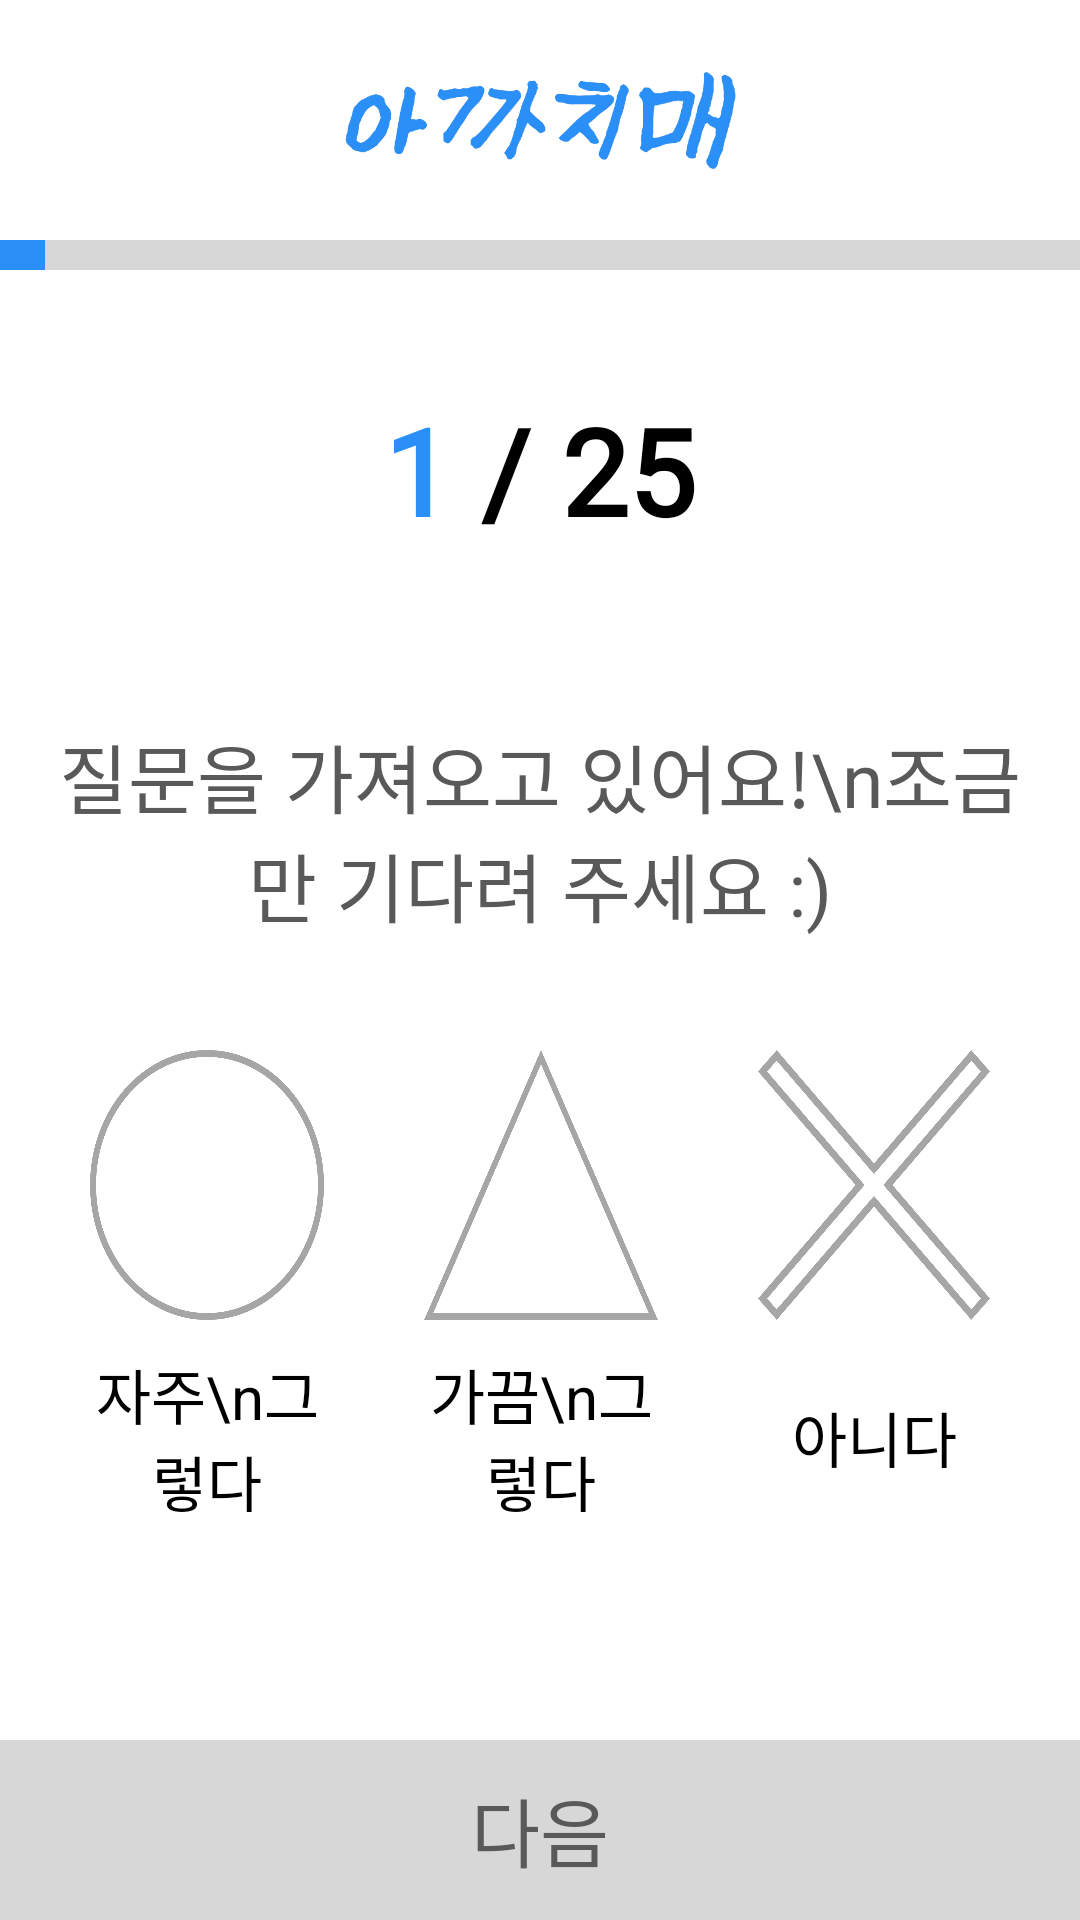

Named icons in this screenshot (1080 × 1920) and their bounding boxes, BBox(x1, y1, x2, y2):
answer triangle: BBox(424, 1051, 658, 1320)
